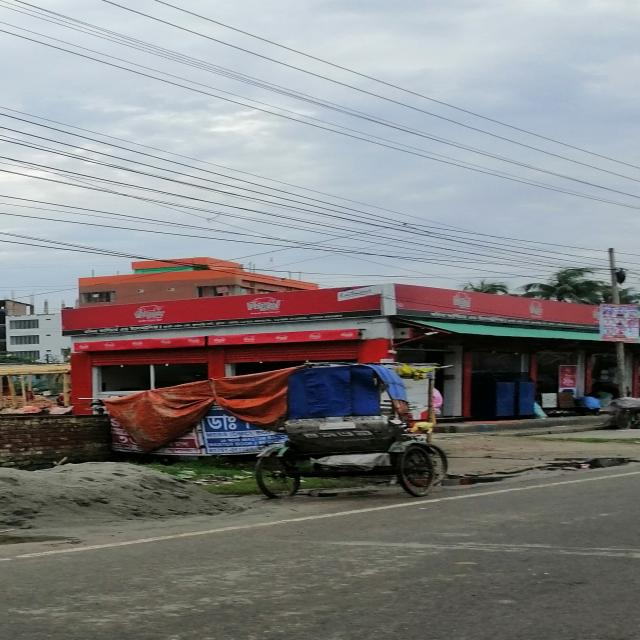Rickshaw: (197, 356, 503, 532)
